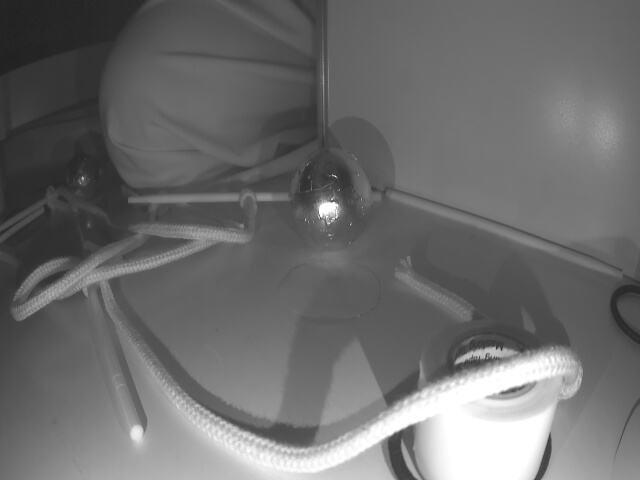Live: (289, 149, 375, 250), (66, 154, 105, 198)
Point: (2, 106, 108, 164)
